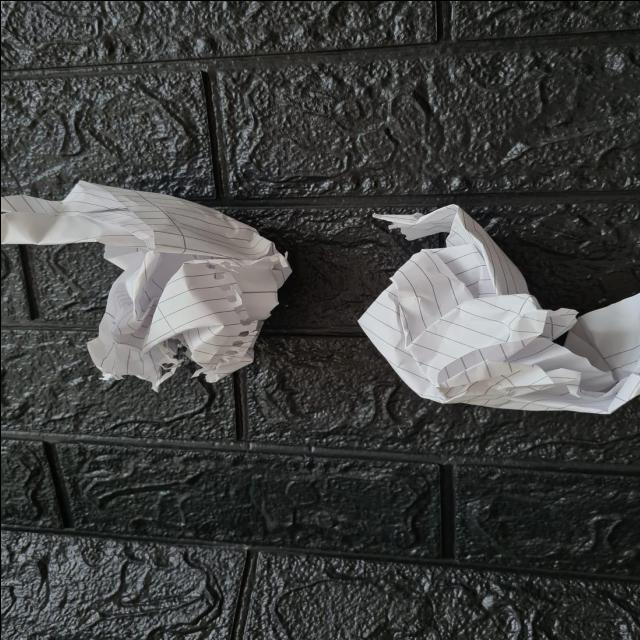kertas: (9, 180, 288, 387), (372, 210, 640, 420)
